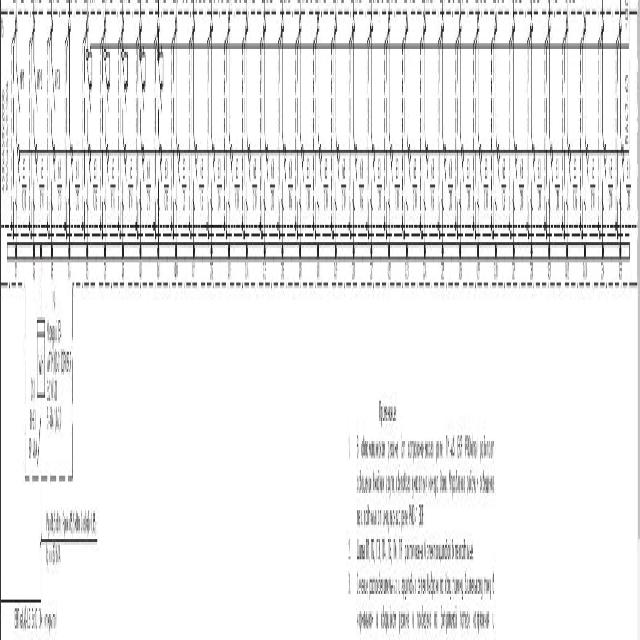-: (46, 316, 72, 436), (28, 406, 37, 462), (233, 154, 240, 218), (180, 156, 187, 219), (608, 154, 614, 218), (625, 151, 631, 215), (109, 157, 115, 221), (572, 154, 578, 218), (74, 154, 80, 218), (358, 154, 364, 218), (146, 151, 152, 215), (554, 157, 560, 221), (590, 154, 596, 218), (21, 151, 27, 215), (376, 154, 382, 218), (394, 154, 400, 218), (269, 154, 275, 218), (199, 151, 205, 215), (501, 153, 507, 216), (92, 156, 98, 219), (447, 156, 453, 219), (430, 156, 436, 219), (252, 156, 258, 219), (216, 153, 222, 216), (518, 156, 524, 219), (412, 156, 418, 219), (323, 156, 329, 219), (287, 156, 293, 219), (466, 156, 472, 219), (537, 156, 543, 219), (163, 156, 169, 219), (305, 153, 311, 216), (128, 156, 134, 219), (56, 153, 62, 216), (484, 153, 489, 216), (39, 156, 44, 219), (341, 153, 346, 216), (36, 62, 42, 94), (18, 61, 24, 92), (55, 66, 60, 98)
QF: (494, 134, 500, 215), (316, 134, 322, 215), (476, 134, 482, 215), (50, 131, 56, 212), (245, 133, 251, 213), (156, 133, 162, 213), (174, 133, 180, 213), (512, 133, 518, 213), (32, 130, 38, 210), (228, 131, 233, 212), (139, 131, 144, 212), (192, 134, 197, 215), (281, 134, 286, 215), (352, 131, 357, 212), (530, 134, 535, 215), (548, 134, 553, 215), (619, 131, 624, 212), (334, 134, 339, 215), (370, 131, 375, 212), (388, 134, 393, 215), (441, 134, 446, 215), (459, 134, 464, 215), (15, 134, 20, 215), (122, 133, 127, 213), (86, 136, 91, 216), (566, 136, 571, 216), (583, 133, 588, 213), (68, 130, 73, 210), (299, 133, 304, 213), (263, 130, 268, 210), (104, 134, 108, 215), (424, 134, 428, 215), (602, 134, 606, 215), (210, 133, 214, 213), (406, 133, 410, 213)
QFD: (85, 44, 94, 122), (120, 44, 129, 122), (156, 48, 165, 126), (103, 44, 111, 122), (138, 48, 146, 126)
QS: (37, 417, 42, 477)
R: (50, 58, 56, 118), (33, 58, 38, 118), (15, 61, 20, 121)
WH: (36, 313, 46, 402)
